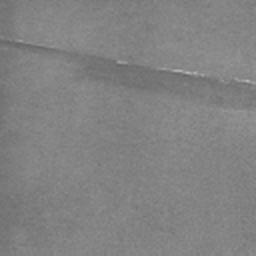Finishing roll printing: (0, 40, 256, 87)
